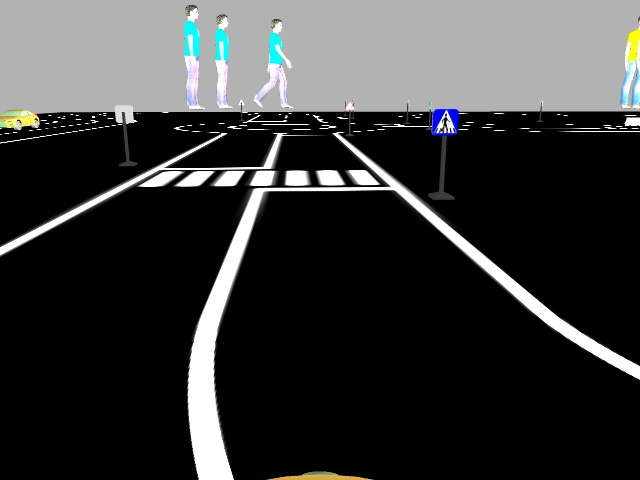Crosswalk: (430, 109, 459, 136)
